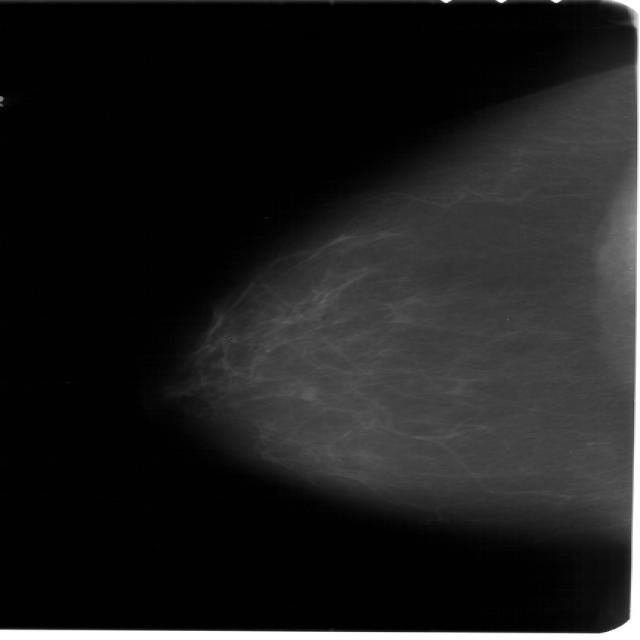tumour: (297, 385, 315, 400)
